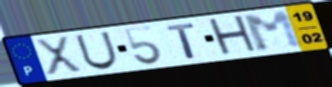5: (121, 24, 166, 67)
H: (205, 13, 261, 58)
M: (240, 9, 306, 54)
T: (165, 21, 199, 60)
U: (73, 30, 121, 71)
X: (33, 34, 86, 76)
